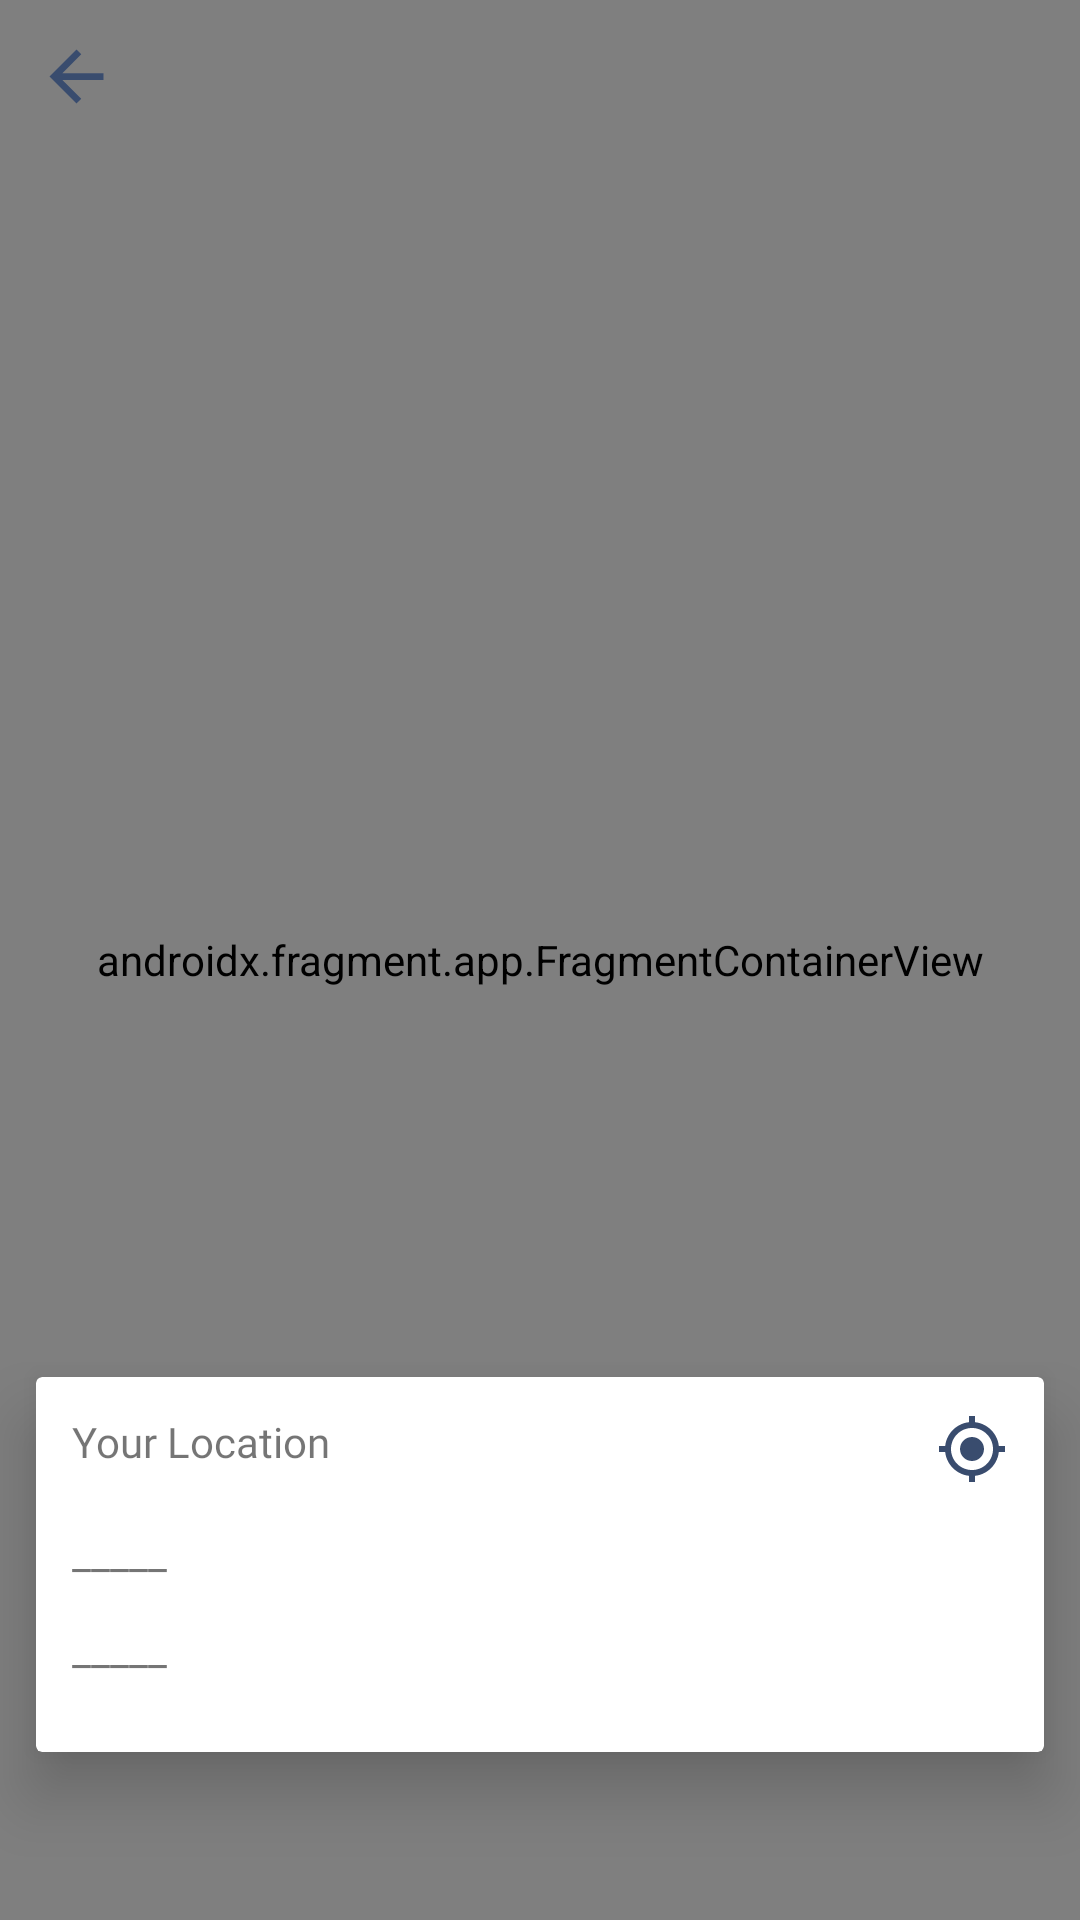

Locate icon controls on the screen. Image size 1080x1920, boxes as Rect(x1, y1, x2, y2).
arrow back: Rect(50, 50, 104, 103)
